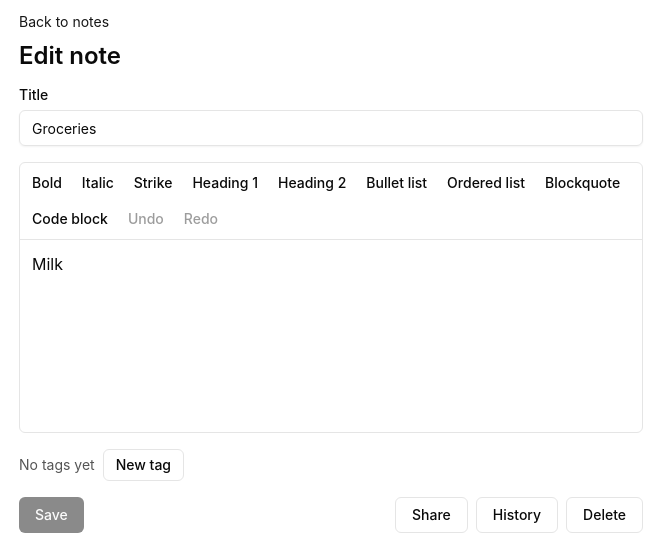
Test: NoteEditorPage autosave › Status follows the save
This screenshot has width=663, height=550.
Expected: the field named "Note content" is shown, [32,254,63,274]
Type "!" into the field labelled "Title" at (331, 128), box [19,110,643,146]
Wait 1000 ms
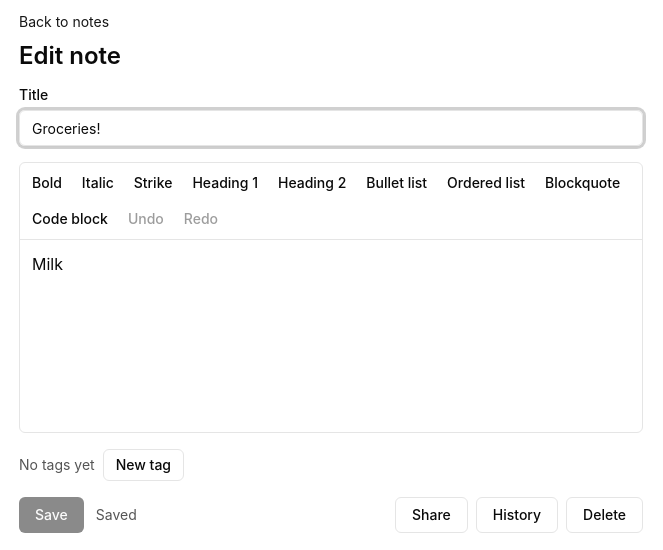
Now the text "Saved" is shown, box [96,505,137,525]
